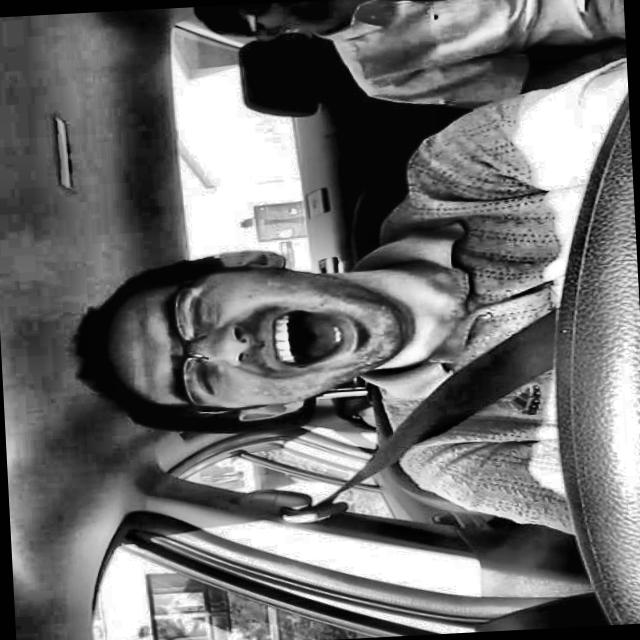closed_eyes: (176, 350, 229, 409), (170, 281, 223, 338)
open_mouth: (252, 302, 380, 379)
